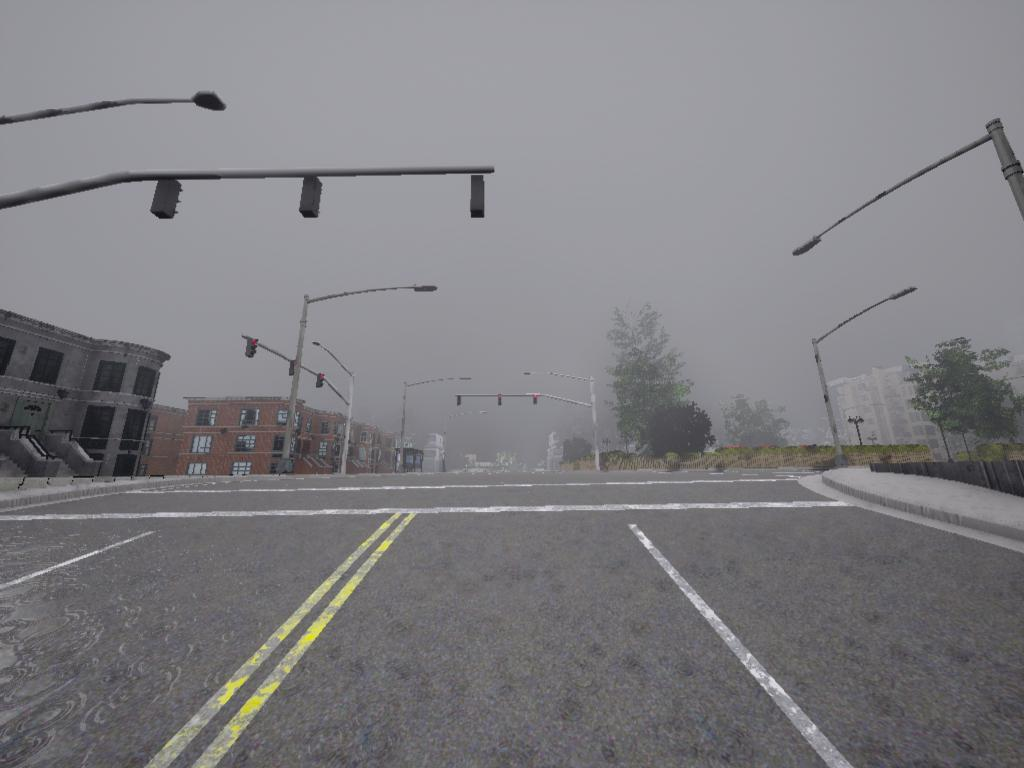traffic_light: (296, 176, 324, 223), (152, 180, 183, 221), (469, 176, 488, 218), (247, 339, 261, 361), (316, 370, 326, 392), (289, 358, 297, 377), (532, 393, 539, 408), (457, 396, 464, 409), (497, 397, 503, 408)
